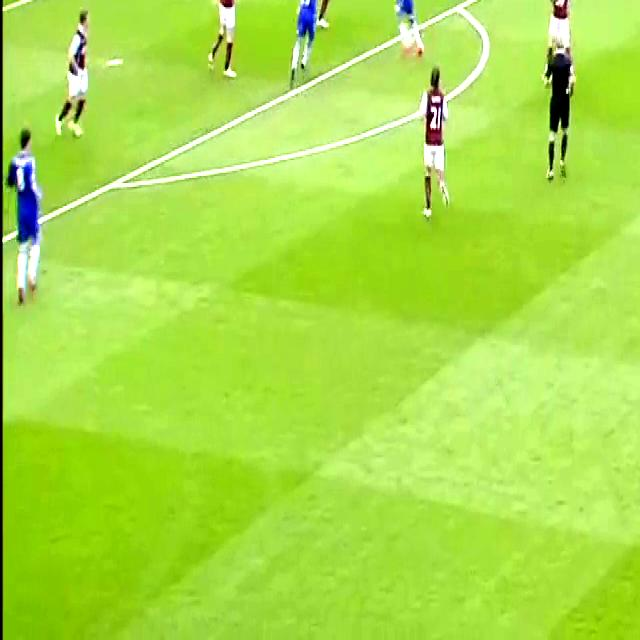referee: (543, 29, 581, 190)
soccer-player: (6, 128, 51, 308), (57, 0, 95, 156), (420, 61, 453, 219), (205, 0, 244, 92), (385, 0, 425, 57), (292, 0, 315, 98), (546, 0, 575, 48), (311, 0, 341, 36)
